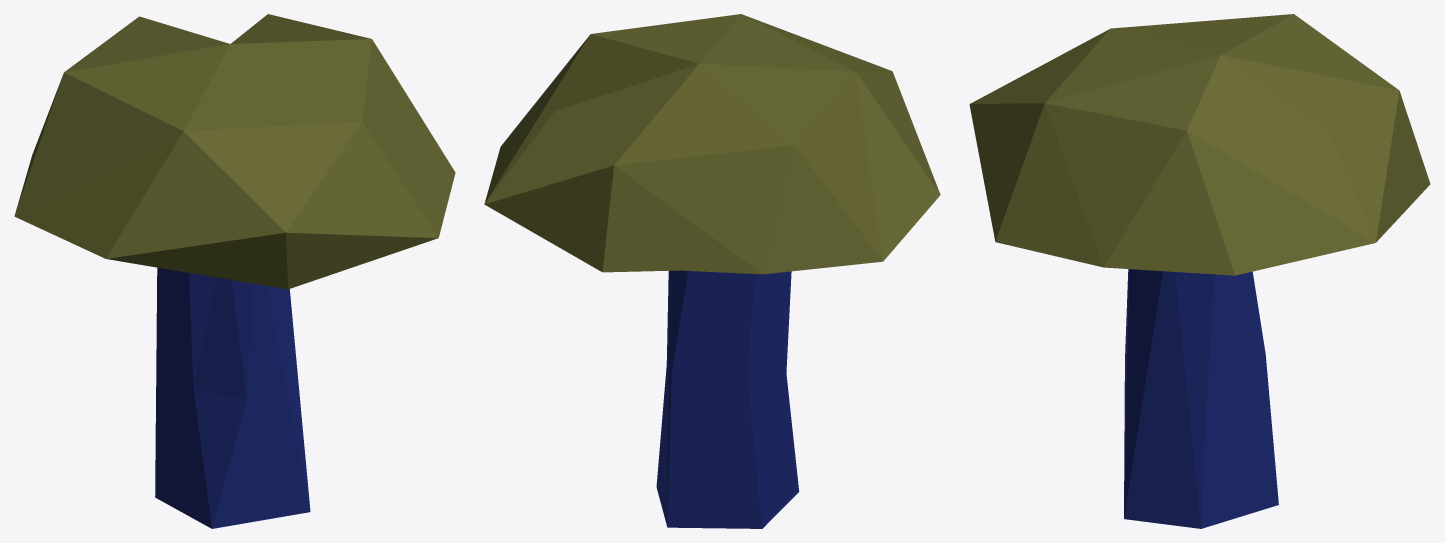
File: mushroom02.fbx
3 views of the same model, side by side, from view 1: azimuth 30°, elevation 25°; view 2: azimuth 150°, elevation 25°; view 3: azimuth 270°, elevation 25° (orthographic).
Parts seen in each view (by area): view 1: Cylinder; view 2: Cylinder; view 3: Cylinder.
Boxes of the visible parts, left/top/right/bottom form: Cylinder: left=14, top=14, right=455, bottom=528; Cylinder: left=484, top=14, right=940, bottom=528; Cylinder: left=969, top=14, right=1430, bottom=528.
Size of the model in its own units: 0.1174 by 0.1269 by 0.1184.
